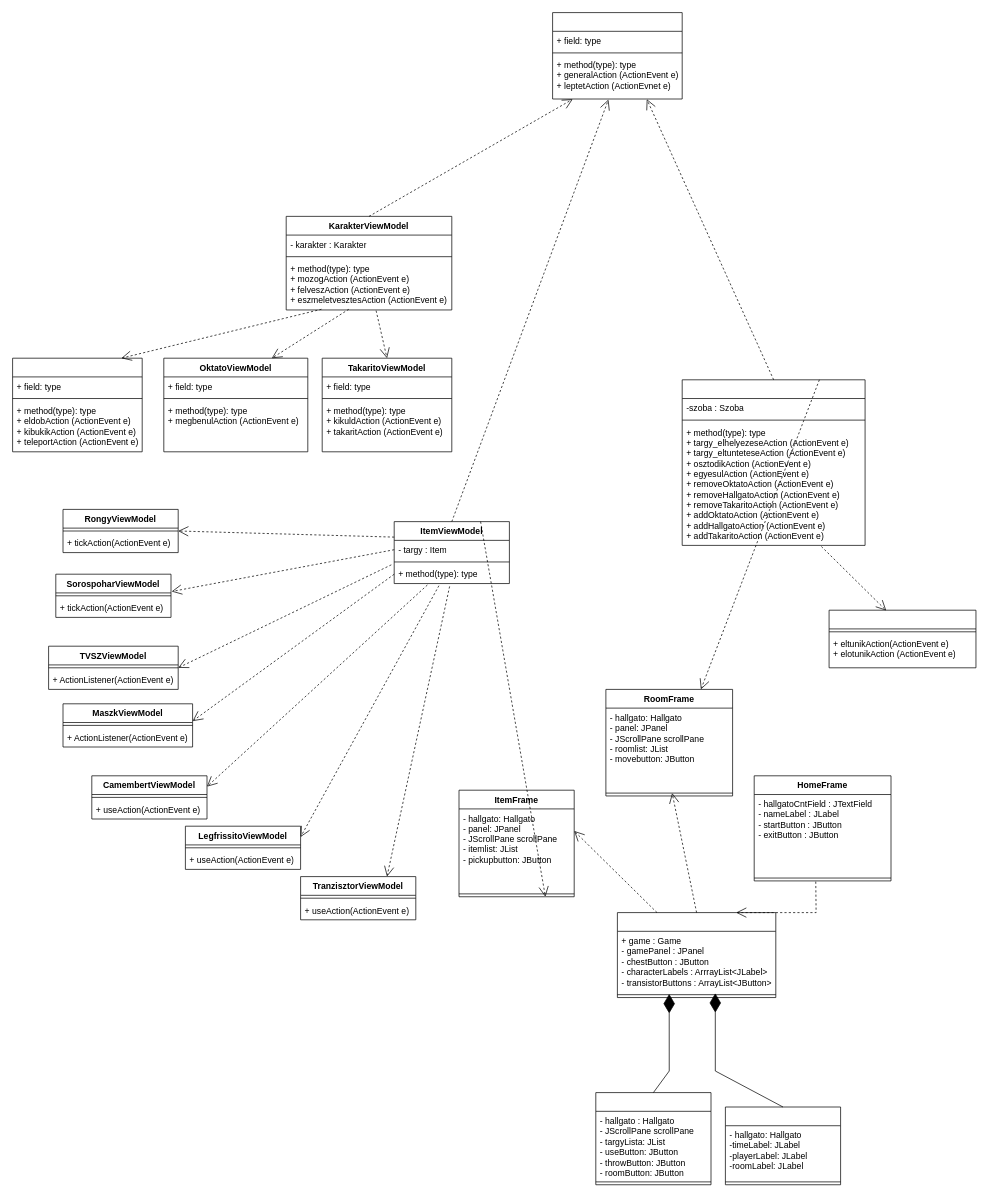
Some shapes in this 989 by 1197 pixel diagram are drawn without their labels. Here are the shapes that lost their labels. From the top down, the box of each, then its label:
(552, 12, 682, 99): MapViewModel
(12, 357, 142, 452): HallgatoViewModel
(681, 379, 865, 545): RoomViewModel
(828, 609, 976, 668): Elatkozott_SzobawViewModel
(617, 912, 776, 998): GameFrame
(595, 1092, 711, 1185): UserPanel
(725, 1106, 841, 1185): MenuPanel
